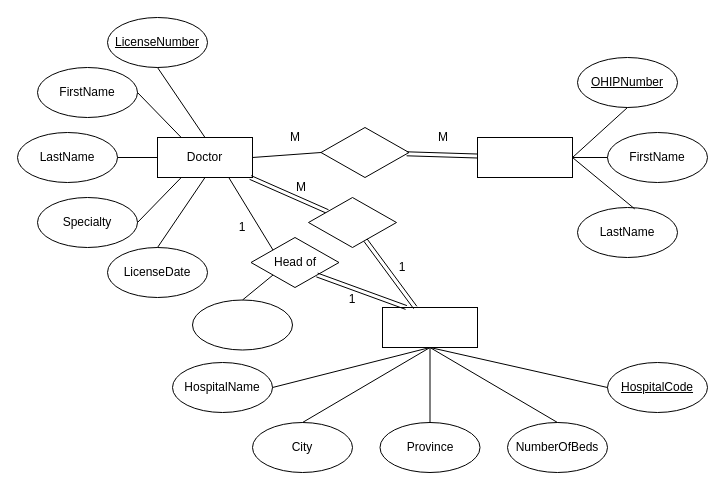
Some shapes in this 725 by 490 pixel diagram are drawn without their labels. Each missing label, with the centre of its shape:
"Assigned to" goes at (x=364, y=152).
"Hospital" goes at (x=430, y=327).
"Patients" goes at (x=524, y=157).
"StartDate" goes at (x=242, y=324).
"Works for" goes at (x=352, y=222).
